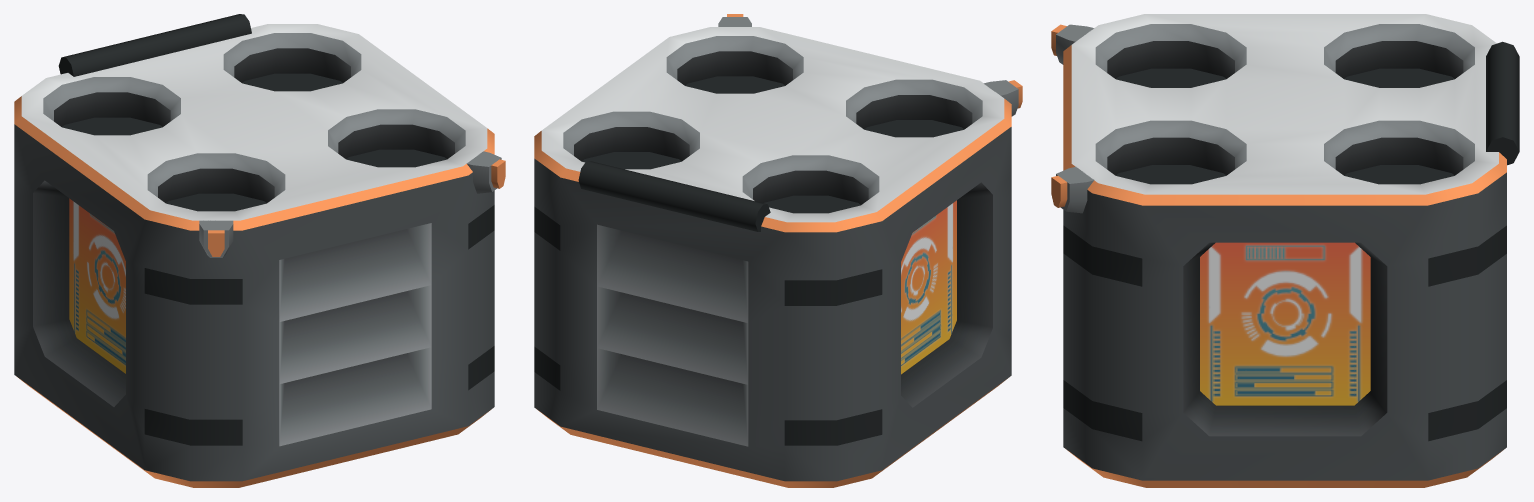
Rendered from Missile_Box_001.fbx.
3 views of the same model, side by side, from view 1: azimuth 30°, elevation 25°; view 2: azimuth 150°, elevation 25°; view 3: azimuth 270°, elevation 25° (orthographic). The views are drawn at different scales.
Visible parts, largest first — view 1: Missile_Box_001; view 2: Missile_Box_001; view 3: Missile_Box_001.
Boxes of the visible parts, bbox=[...] form: Missile_Box_001: bbox=[14, 14, 505, 487]; Missile_Box_001: bbox=[534, 14, 1022, 487]; Missile_Box_001: bbox=[1051, 14, 1519, 487].
Size of the model in its own units: 69.56 by 73.4 by 53.84.
